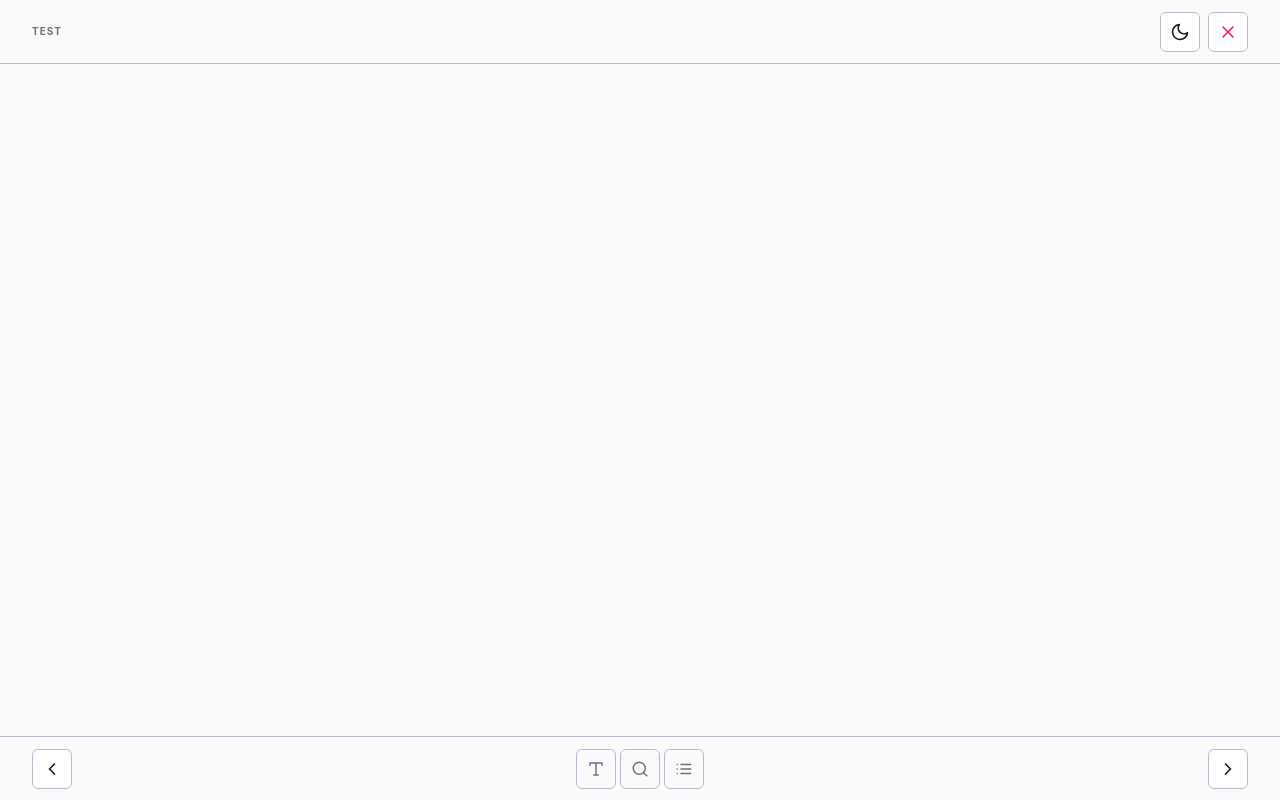
Test: ReaderOverlay › toggles toc panel when toc button is clicked
Expected: the text "contents" is not shown
// Click the TOC button
Click the button named "Table of contents". click: (684,768)
box: x1=664 y1=748 x2=704 y2=788
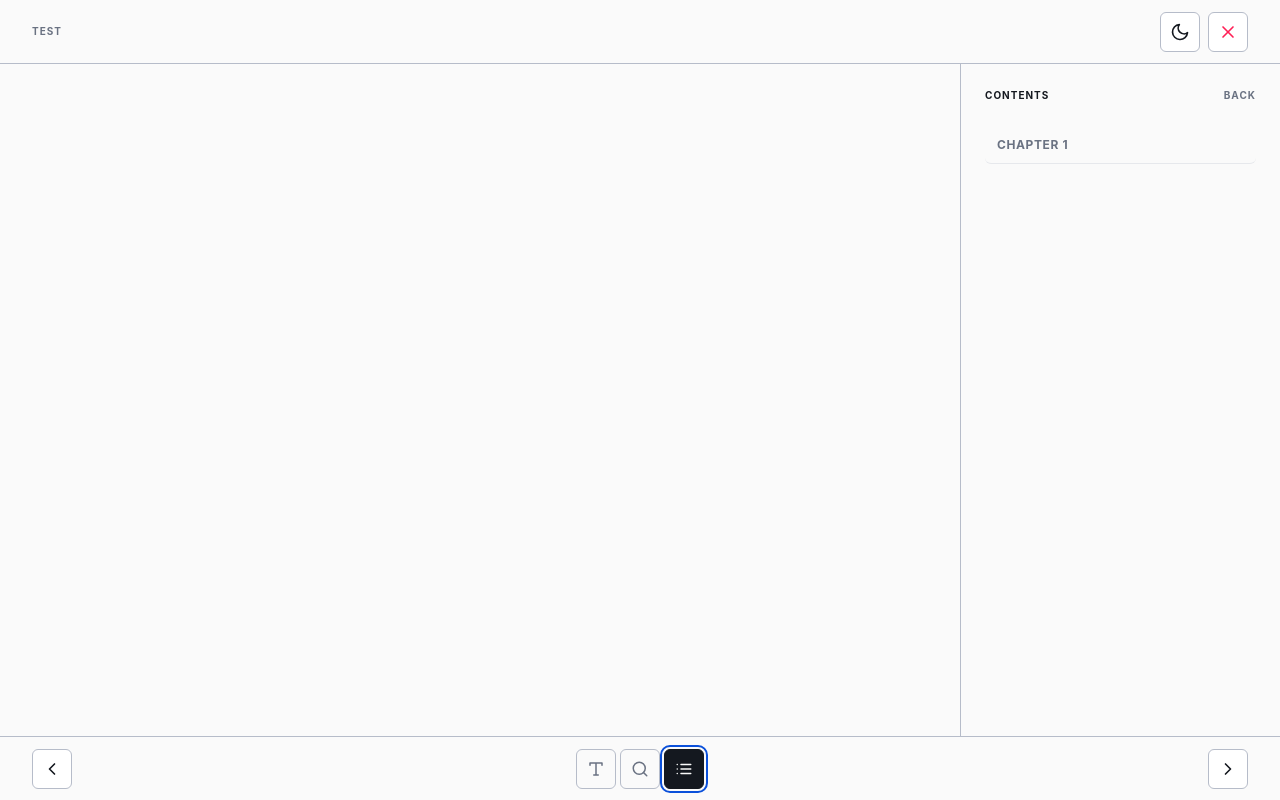
Expected: the heading "contents" is shown, x1=985 y1=88 x2=1049 y2=103
Expected: the button "Chapter 1" is shown, x1=985 y1=127 x2=1256 y2=164
